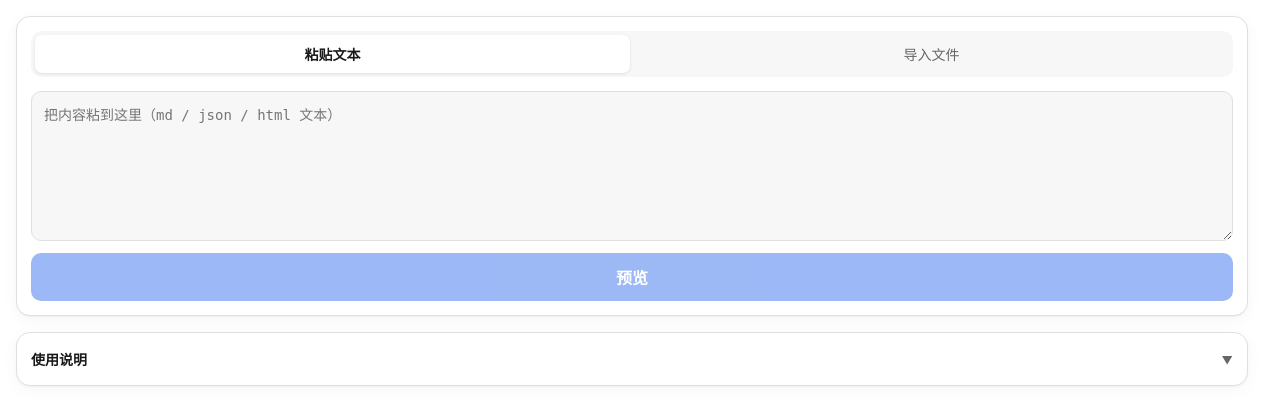
HomeScreen › 切到导入文件标签后隐藏粘贴框、显示文件入口
The width and height of the screenshot is (1265, 404).
Click the tab "导入文件": (932,54) [634,35,1229,73]
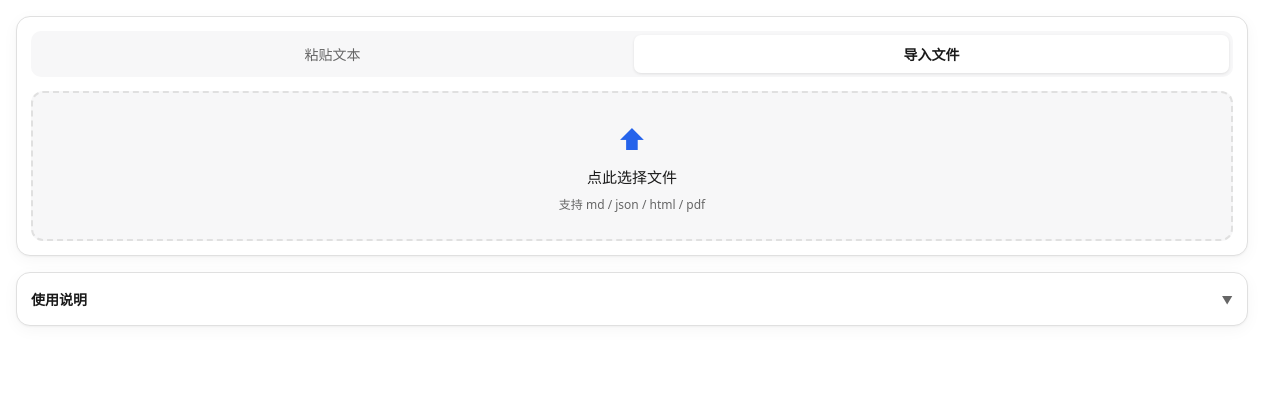
expect the field with placeholder "把内容粘到这里" is not shown: met
expect the text "点此选择文件" is shown: met, box [587,166,677,186]
